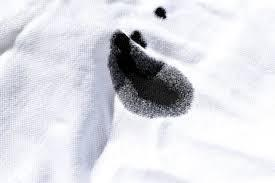ink: (108, 32, 192, 119), (153, 6, 168, 20)
